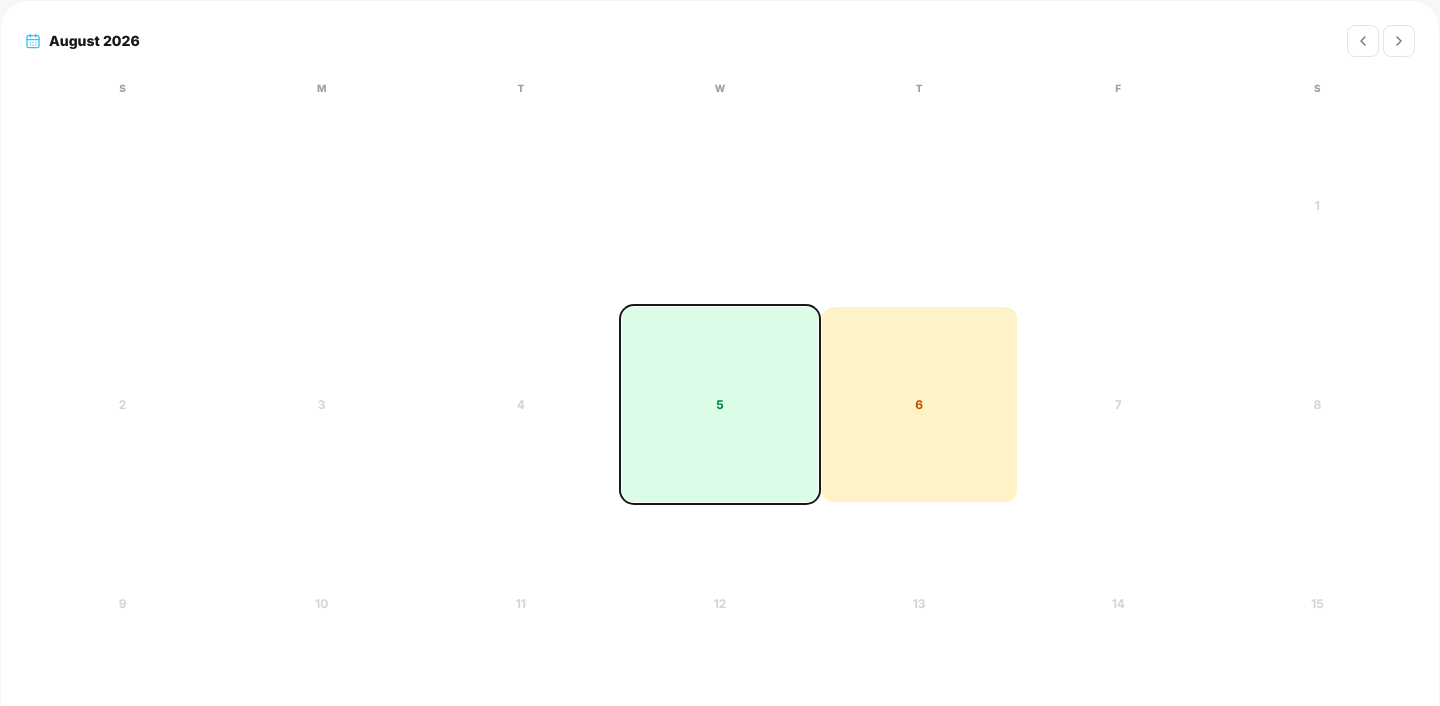
Scenario: CalendarSidebar › navigates to the previous and next month
The image size is (1440, 706).
Click the button named "Previous month" at (1363, 41), box [1347, 25, 1379, 57]
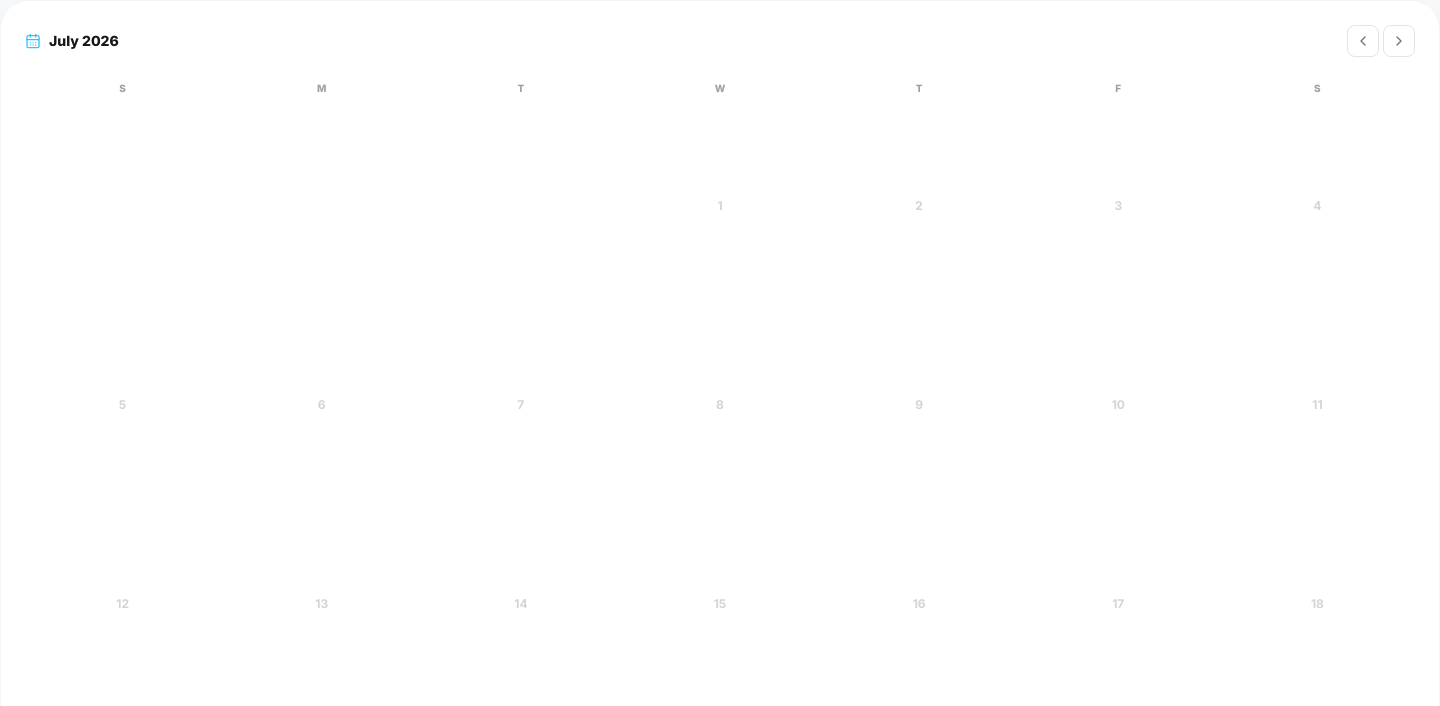
Expected: the heading "July 2026" is shown, [25, 31, 119, 51]
Click the button named "Next month" at (1399, 41), box [1383, 25, 1415, 57]
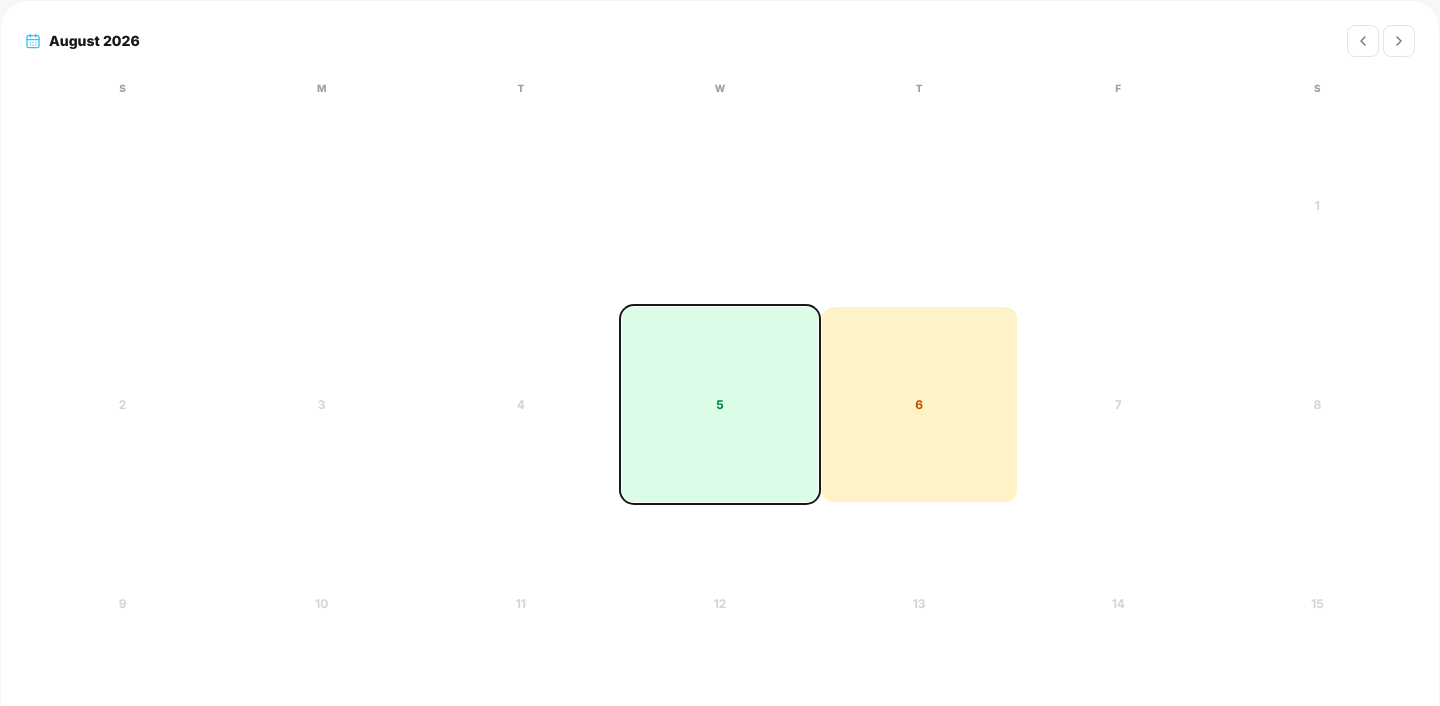
Click the button named "Next month" at (1399, 41), box [1383, 25, 1415, 57]
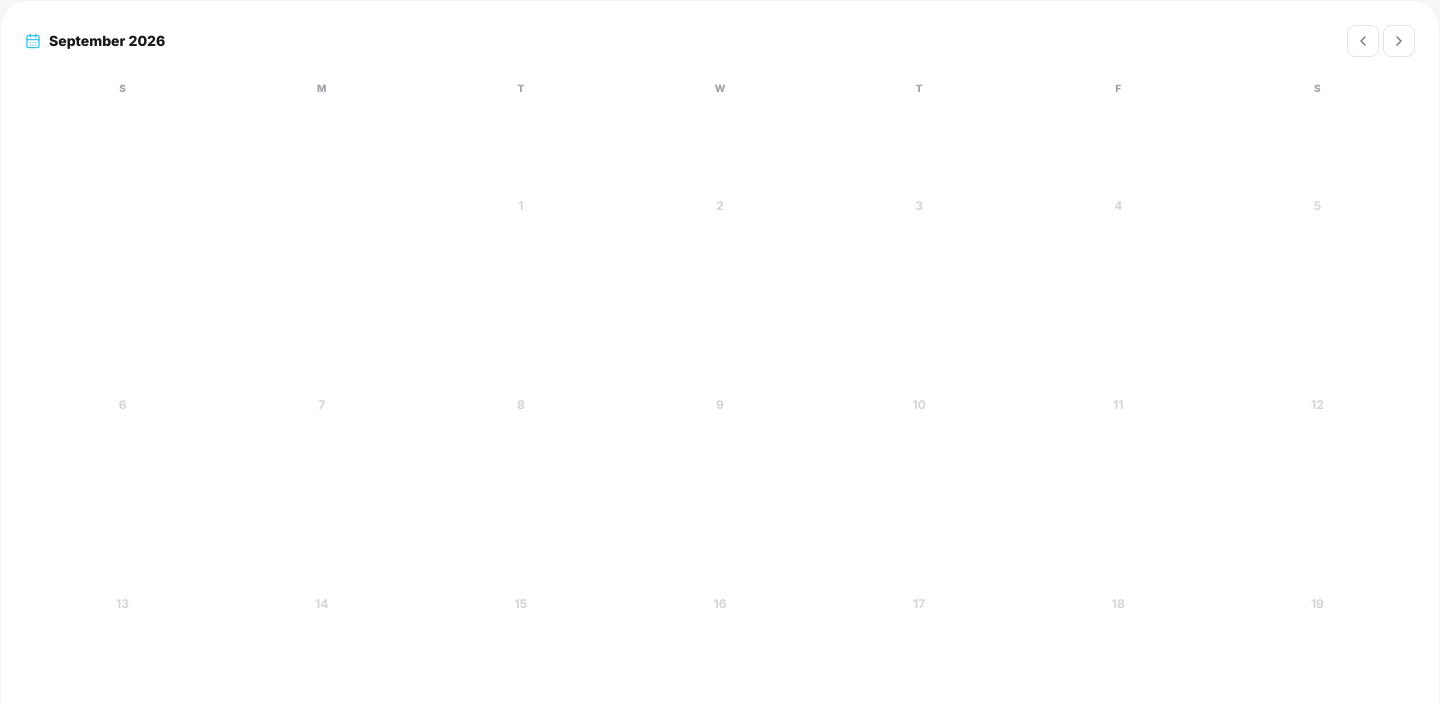
Expected: the heading "September 2026" is shown, [25, 31, 165, 51]
